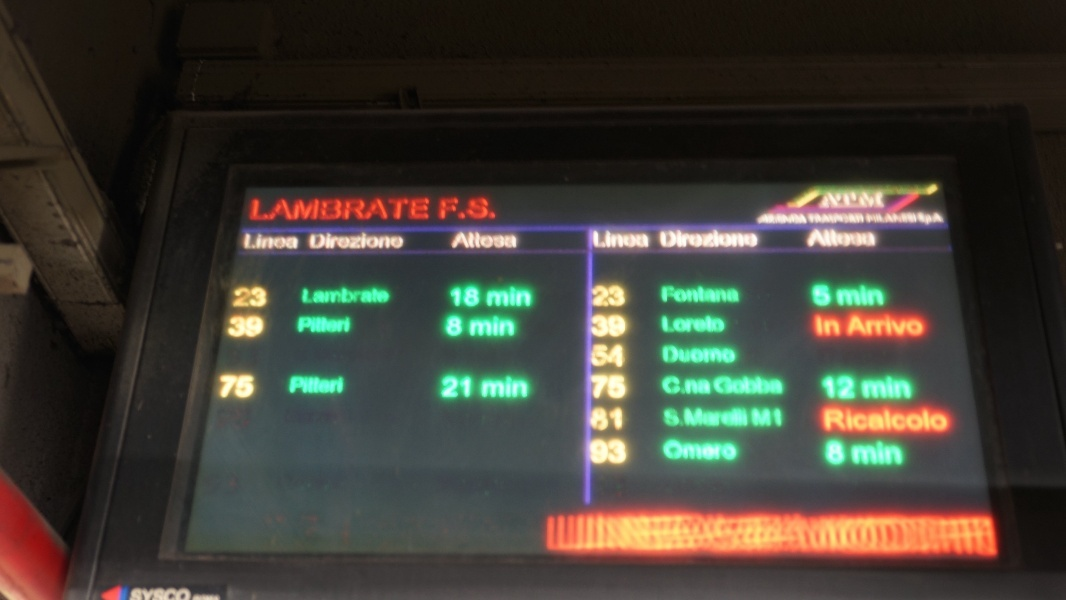text: (609, 407, 625, 434), (225, 374, 240, 402), (241, 374, 256, 402), (849, 441, 864, 469), (865, 441, 880, 469), (881, 441, 896, 469), (257, 196, 272, 223), (273, 196, 288, 223), (289, 196, 304, 223), (305, 196, 320, 223), (321, 196, 336, 223), (337, 196, 352, 223), (353, 196, 368, 223), (369, 196, 384, 223), (385, 196, 400, 223), (401, 196, 416, 223), (593, 407, 608, 434), (833, 441, 848, 468), (449, 196, 464, 222), (465, 196, 480, 222), (481, 196, 496, 222), (449, 376, 464, 402), (593, 375, 608, 401), (609, 375, 624, 401), (593, 440, 608, 466), (609, 440, 624, 466), (833, 375, 848, 401), (449, 285, 464, 310), (465, 285, 480, 310), (497, 285, 512, 310), (513, 285, 528, 310), (481, 376, 496, 401), (497, 376, 512, 401), (513, 376, 528, 401), (593, 344, 608, 369), (609, 344, 624, 369), (865, 376, 880, 401), (881, 376, 896, 401), (897, 376, 912, 401), (833, 409, 848, 434), (849, 409, 864, 434), (865, 409, 880, 434), (881, 409, 896, 434), (897, 409, 912, 434), (913, 409, 928, 434), (929, 409, 944, 434), (449, 317, 465, 340), (241, 286, 256, 310), (241, 317, 256, 341), (593, 284, 608, 308), (609, 284, 624, 308), (593, 315, 608, 339), (609, 315, 624, 339), (817, 284, 832, 308), (833, 284, 848, 308), (849, 284, 864, 308), (865, 284, 880, 308), (817, 315, 832, 339), (721, 345, 737, 367), (769, 375, 785, 397), (769, 408, 785, 430), (417, 196, 430, 223), (481, 317, 496, 340), (497, 317, 512, 340), (849, 315, 864, 338), (865, 315, 880, 338), (881, 315, 896, 338), (897, 315, 912, 338), (673, 440, 688, 463), (689, 440, 704, 463), (705, 440, 720, 463), (721, 440, 736, 463), (289, 375, 304, 397), (305, 375, 320, 397), (321, 375, 336, 397), (673, 345, 688, 367), (689, 345, 704, 367), (705, 345, 720, 367), (673, 375, 688, 397), (689, 375, 704, 397), (721, 375, 736, 397), (737, 375, 752, 397), (753, 375, 768, 397), (673, 408, 688, 430), (689, 408, 704, 430), (705, 408, 720, 430), (721, 408, 736, 430), (737, 408, 752, 430), (753, 408, 768, 430), (673, 229, 688, 250), (689, 229, 704, 250), (705, 229, 720, 250), (721, 229, 736, 250), (737, 229, 752, 250), (817, 230, 832, 251), (833, 230, 848, 251), (849, 230, 864, 251), (257, 286, 270, 310), (257, 232, 272, 252), (273, 232, 288, 252), (305, 287, 320, 307), (321, 287, 336, 307), (337, 287, 352, 307), (353, 287, 368, 307), (369, 287, 384, 307), (305, 317, 320, 337), (321, 317, 336, 337), (337, 317, 352, 337), (673, 285, 688, 305), (689, 285, 704, 305), (705, 285, 720, 305), (721, 285, 736, 305), (673, 315, 688, 335), (689, 315, 704, 335), (705, 315, 720, 335), (467, 317, 480, 340), (228, 317, 240, 341), (321, 232, 336, 251), (337, 232, 352, 251), (353, 232, 368, 251), (369, 232, 384, 251), (385, 232, 400, 251), (465, 232, 480, 251), (481, 232, 496, 251), (497, 232, 512, 251), (833, 191, 848, 210), (849, 191, 864, 210), (865, 191, 880, 210), (242, 232, 256, 252), (913, 315, 925, 338), (659, 229, 672, 250), (865, 230, 878, 251), (593, 231, 608, 249), (609, 231, 624, 249), (625, 231, 640, 249), (450, 232, 464, 251), (438, 196, 448, 222), (822, 375, 832, 401), (897, 441, 906, 469), (486, 285, 496, 310), (661, 345, 672, 367), (881, 211, 896, 227), (897, 211, 912, 227), (913, 211, 928, 227), (929, 211, 944, 227), (660, 285, 672, 305), (833, 315, 843, 339), (465, 376, 474, 402), (849, 375, 858, 401), (308, 232, 320, 251), (289, 232, 300, 252), (661, 315, 672, 335), (662, 375, 672, 397), (824, 441, 832, 468), (769, 213, 784, 227), (785, 213, 800, 227), (817, 213, 832, 227), (833, 213, 848, 227), (849, 213, 864, 227), (867, 211, 880, 227), (824, 409, 832, 434), (337, 375, 346, 397), (663, 408, 672, 430), (145, 587, 160, 600), (161, 587, 176, 600), (177, 587, 192, 600), (249, 196, 256, 223), (664, 440, 672, 463), (441, 376, 448, 402), (705, 375, 713, 397), (131, 587, 144, 600), (233, 286, 240, 310), (257, 317, 264, 341), (808, 230, 816, 251), (881, 284, 888, 308), (641, 231, 650, 249), (296, 317, 304, 337), (824, 191, 832, 210), (753, 229, 760, 250), (385, 287, 392, 307), (714, 375, 720, 397), (759, 213, 768, 227), (807, 213, 816, 227), (945, 409, 950, 434), (721, 315, 727, 335), (513, 317, 518, 340), (881, 191, 887, 210), (220, 374, 224, 402), (801, 213, 809, 227), (625, 375, 629, 401), (860, 376, 864, 401), (625, 315, 629, 339), (812, 284, 816, 308), (513, 232, 518, 251), (737, 440, 741, 463), (737, 285, 741, 305), (625, 440, 628, 466), (401, 232, 405, 251), (529, 285, 532, 310), (913, 376, 916, 401), (625, 284, 628, 308), (813, 315, 816, 339), (301, 287, 304, 307), (590, 440, 592, 466), (529, 376, 531, 401), (446, 317, 448, 340), (945, 211, 947, 227), (591, 407, 592, 434), (591, 375, 592, 401), (481, 285, 482, 310), (591, 344, 592, 369), (625, 344, 626, 369), (353, 317, 354, 337), (865, 213, 866, 227), (193, 587, 194, 600)
